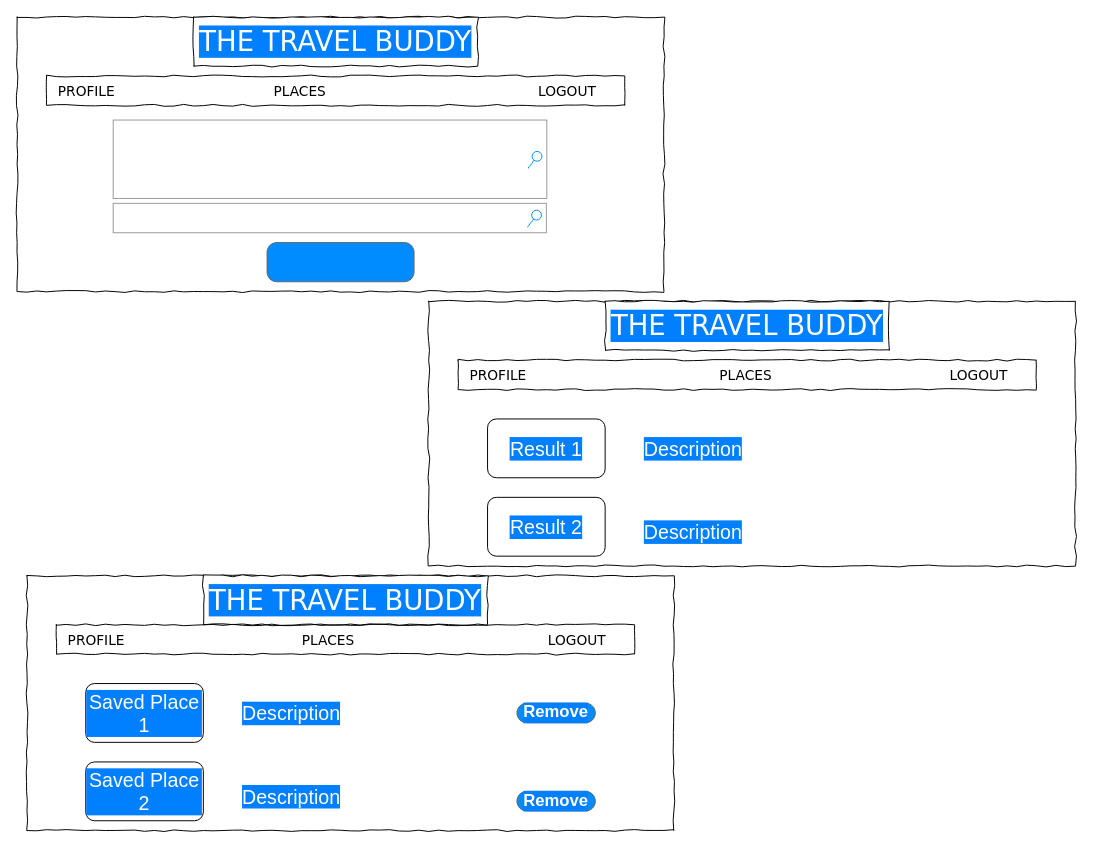
Some shapes in this 1093 by 848 pixel diagram are drawn without their labels. The box of each missing label's shape, as (x1, y1, x2, y2) in pixels:
Location: Seattle: (112, 202, 546, 233)
Search: (i.e., parks, restaurants, desserts, hotels): (112, 119, 547, 198)
SUBMIT: (266, 242, 414, 282)
